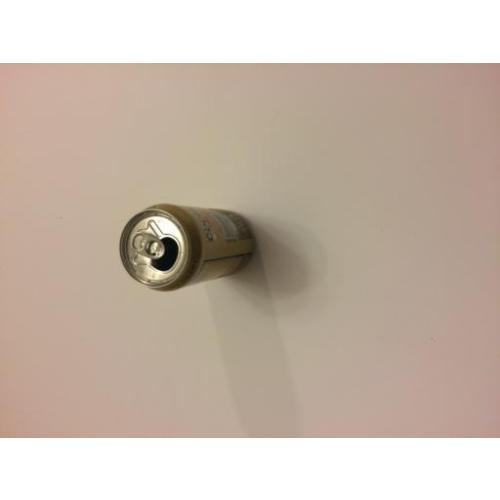metal: (123, 205, 254, 291)
